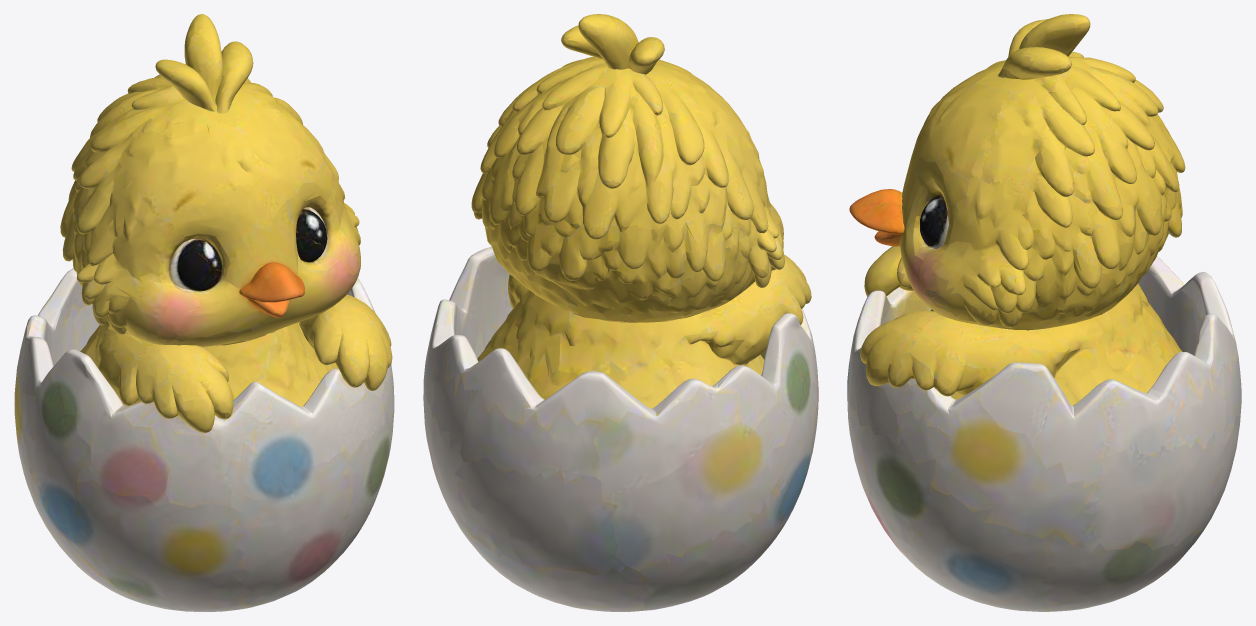
The picture shows the model from 3 angles, left to right: view 1: azimuth 30°, elevation 25°; view 2: azimuth 150°, elevation 25°; view 3: azimuth 270°, elevation 25°; orthographic projection. The views are drawn at different scales.
Parts seen in each view (by area): view 1: output_unwrapped; view 2: output_unwrapped; view 3: output_unwrapped.
Boxes of the visible parts, <box> form: output_unwrapped: <box>14,14,394,611</box>; output_unwrapped: <box>423,14,818,611</box>; output_unwrapped: <box>847,14,1241,611</box>.
Bounding box in the file's own units: 1.19 × 1.9 × 1.19.
Materials: 1 (1 with a texture image).
